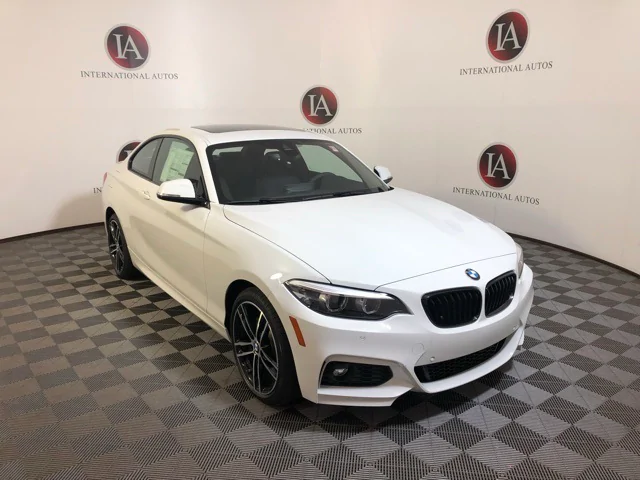bmw: (87, 125, 538, 414)
